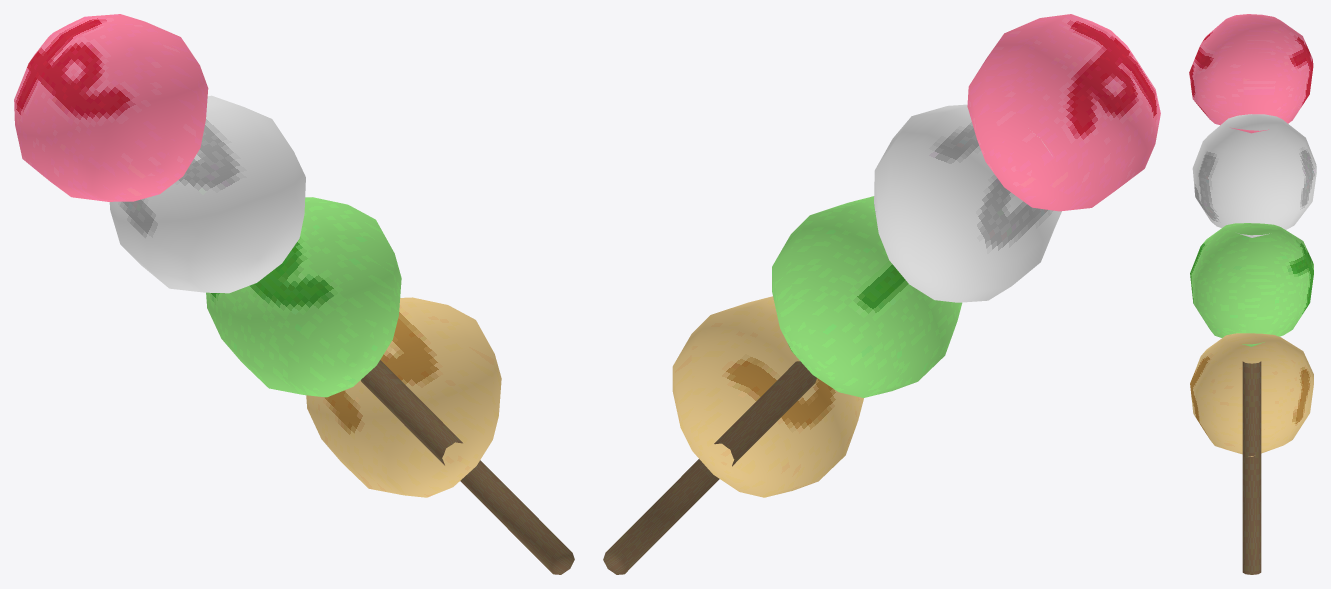
File: ps2_save-icons_suisuisweet.glb
3 views of the same model, side by side, from view 1: azimuth 30°, elevation 25°; view 2: azimuth 150°, elevation 25°; view 3: azimuth 270°, elevation 25° (orthographic). The views are drawn at different scales.
Parts seen in each view (by area): view 1: sweet.ico; view 2: sweet.ico; view 3: sweet.ico.
Boxes of the visible parts, left/top/right/bottom form: sweet.ico: left=14, top=14, right=574, bottom=574; sweet.ico: left=603, top=14, right=1160, bottom=574; sweet.ico: left=1189, top=14, right=1316, bottom=574.
Size of the model in its own units: 3.36 by 3.9 by 1.07.
Materials: 1 (1 with a texture image).
